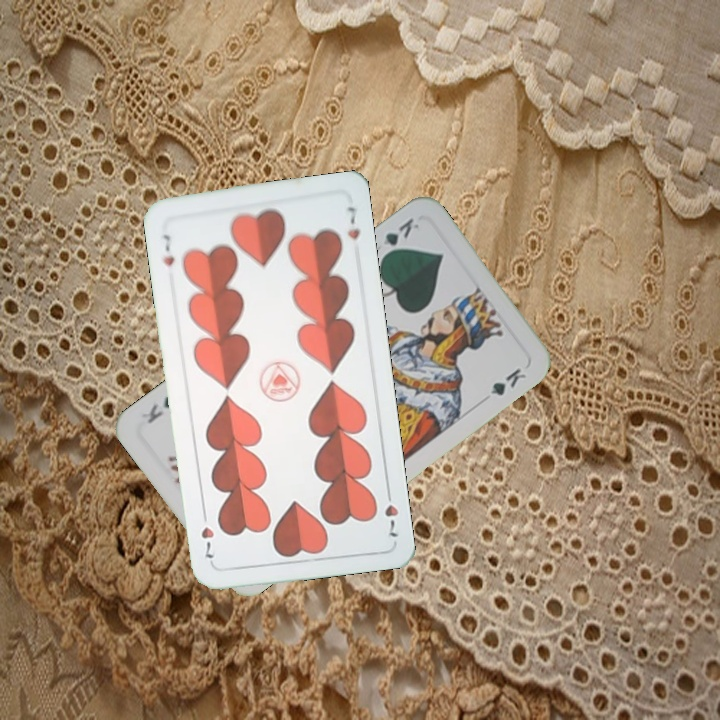GK: (376, 213, 422, 261)
H7: (381, 483, 401, 540), (159, 230, 177, 269)
